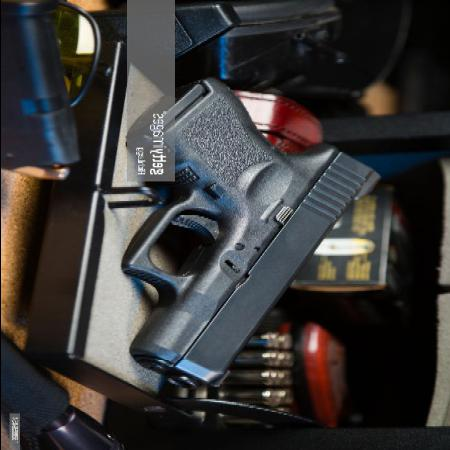Pistol: (124, 54, 399, 402)
